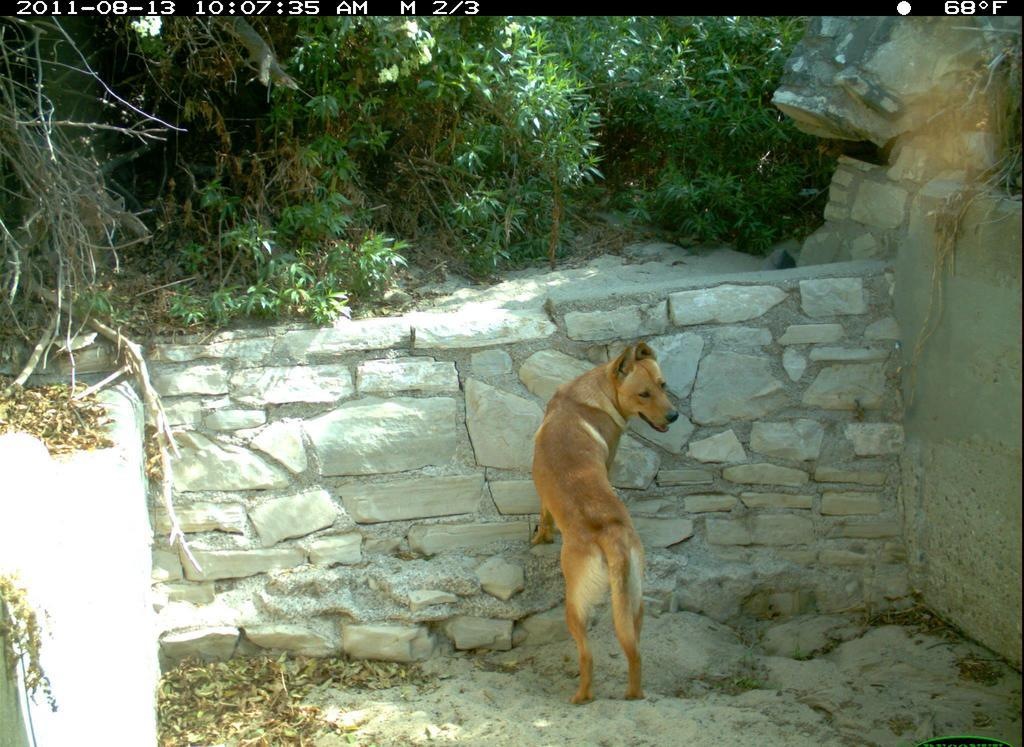dog: (515, 329, 690, 707)
